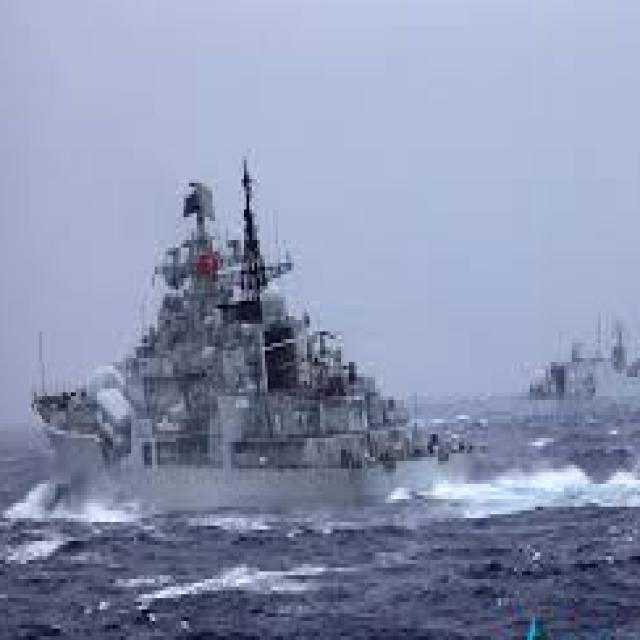navalvessels: (31, 168, 476, 512), (519, 294, 640, 388)
